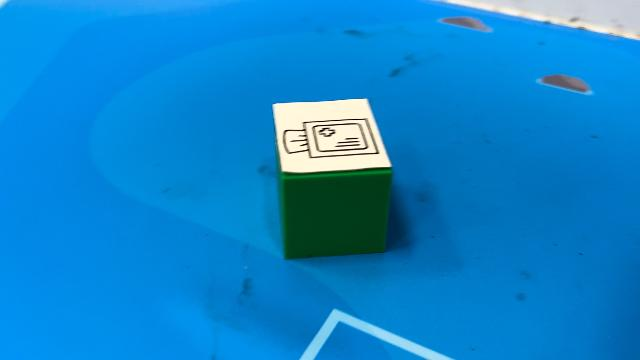napkin: (270, 96, 396, 260)
